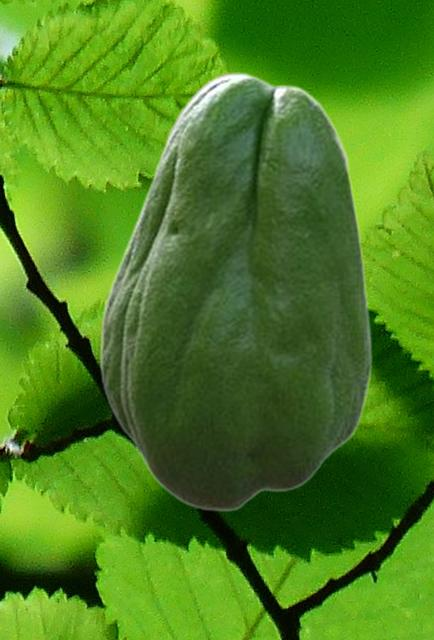sayote: (99, 72, 372, 511)
